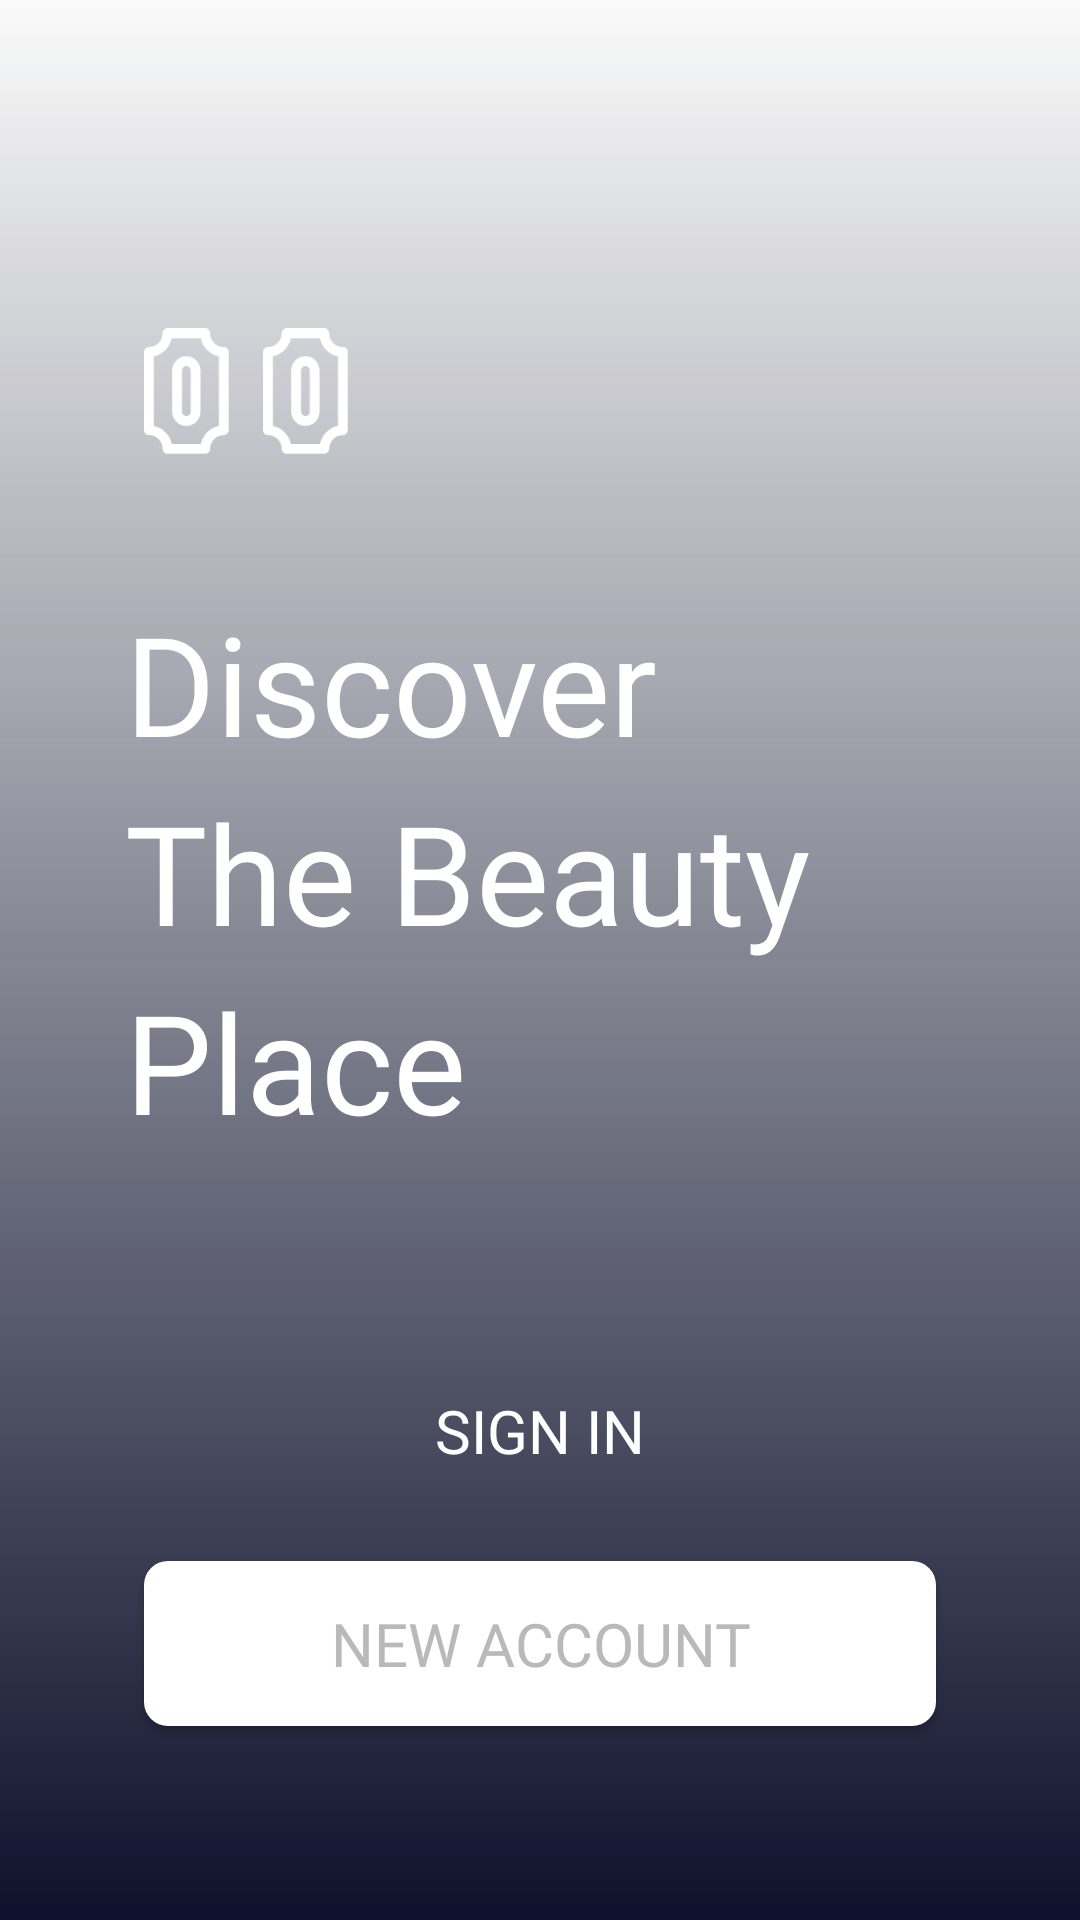

Icon click points for this 1080 x 1920 phone screenshot, format [x,y]:
emblemwhite: [246,389]
